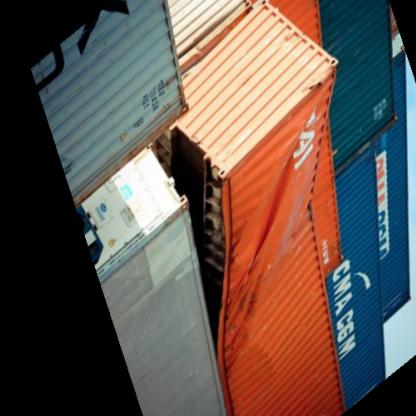Damage: (187, 75, 330, 381)
